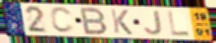2: (25, 5, 49, 34)
B: (80, 7, 110, 36)
C: (49, 6, 77, 35)
J: (143, 10, 164, 36)
K: (109, 8, 134, 36)
L: (167, 10, 192, 37)
